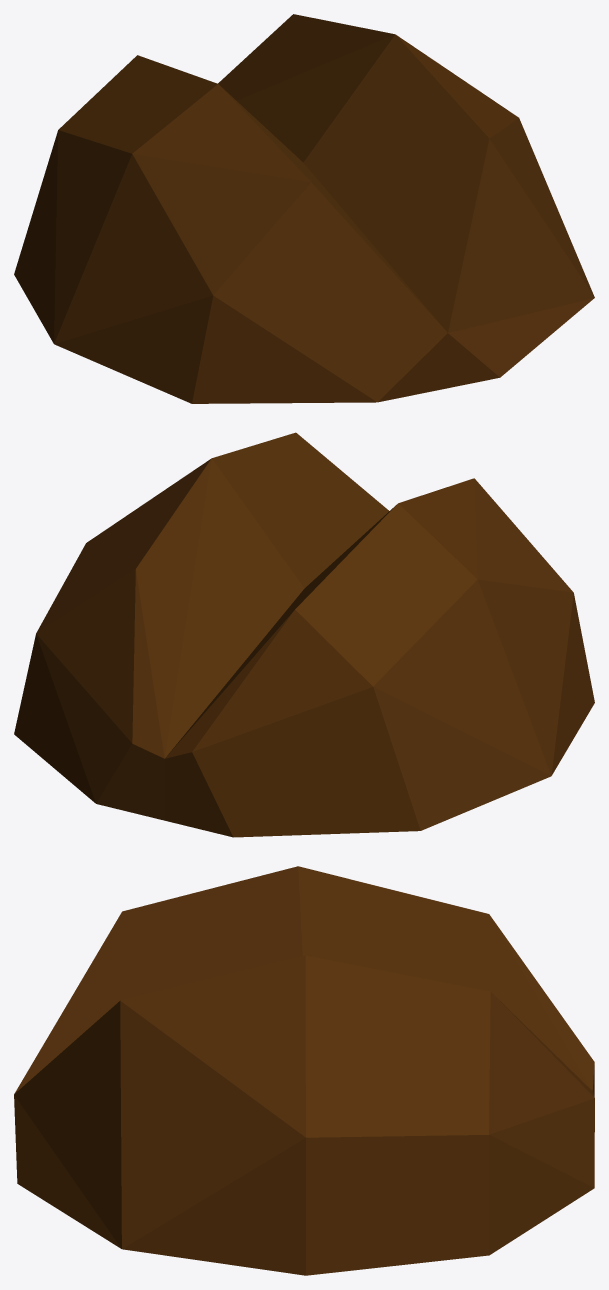
File: HalfWalnutCollider.obj
3 renders of one model, top to bottom at view 1: azimuth 30°, elevation 25°; view 2: azimuth 150°, elevation 25°; view 3: azimuth 270°, elevation 25°, orthographic. The views are drawn at different scales.
Parts seen in each view (by area): view 1: Cylinder.001, Cylinder; view 2: Cylinder.001, Cylinder; view 3: Cylinder, Cylinder.001.
Boxes of the visible parts, x1,y1,x2,y2 form: Cylinder.001: [14, 55, 447, 403]; Cylinder: [218, 14, 594, 389]; Cylinder.001: [164, 478, 594, 837]; Cylinder: [14, 432, 389, 820]; Cylinder: [14, 955, 594, 1275]; Cylinder.001: [14, 866, 594, 1096].
Bounding box in the file's own units: 0.0424 × 0.0196 × 0.042.
